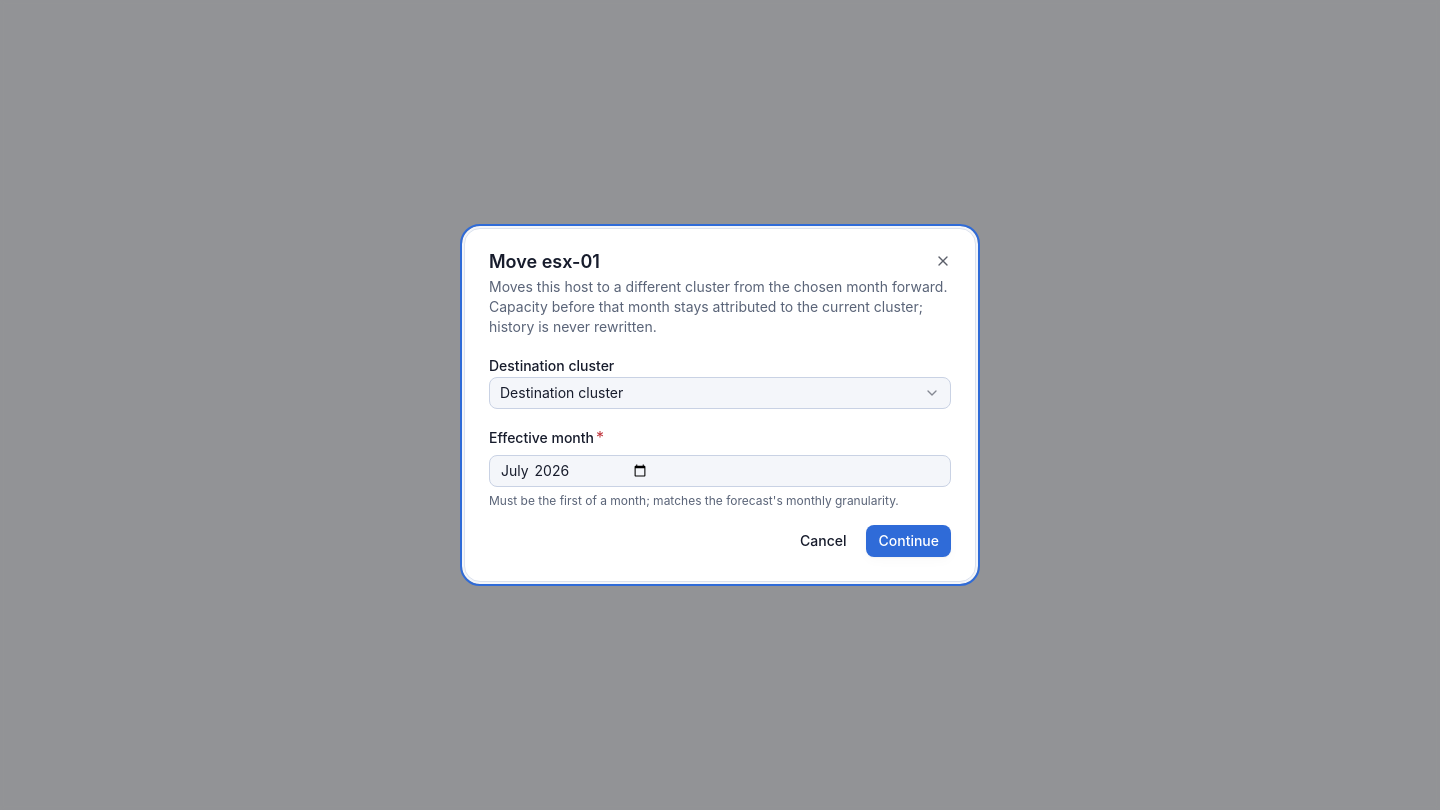
<HostMoveDialog> › refuses a blank month with the dialog's own error, focuses it, and does not advance
The width and height of the screenshot is (1440, 810).
Expected: the dropdown labelled "Destination cluster" is shown, [489,377,951,409]
Step 1. Clear the field labelled "Effective month" → (720, 471), box [489,455,951,487]
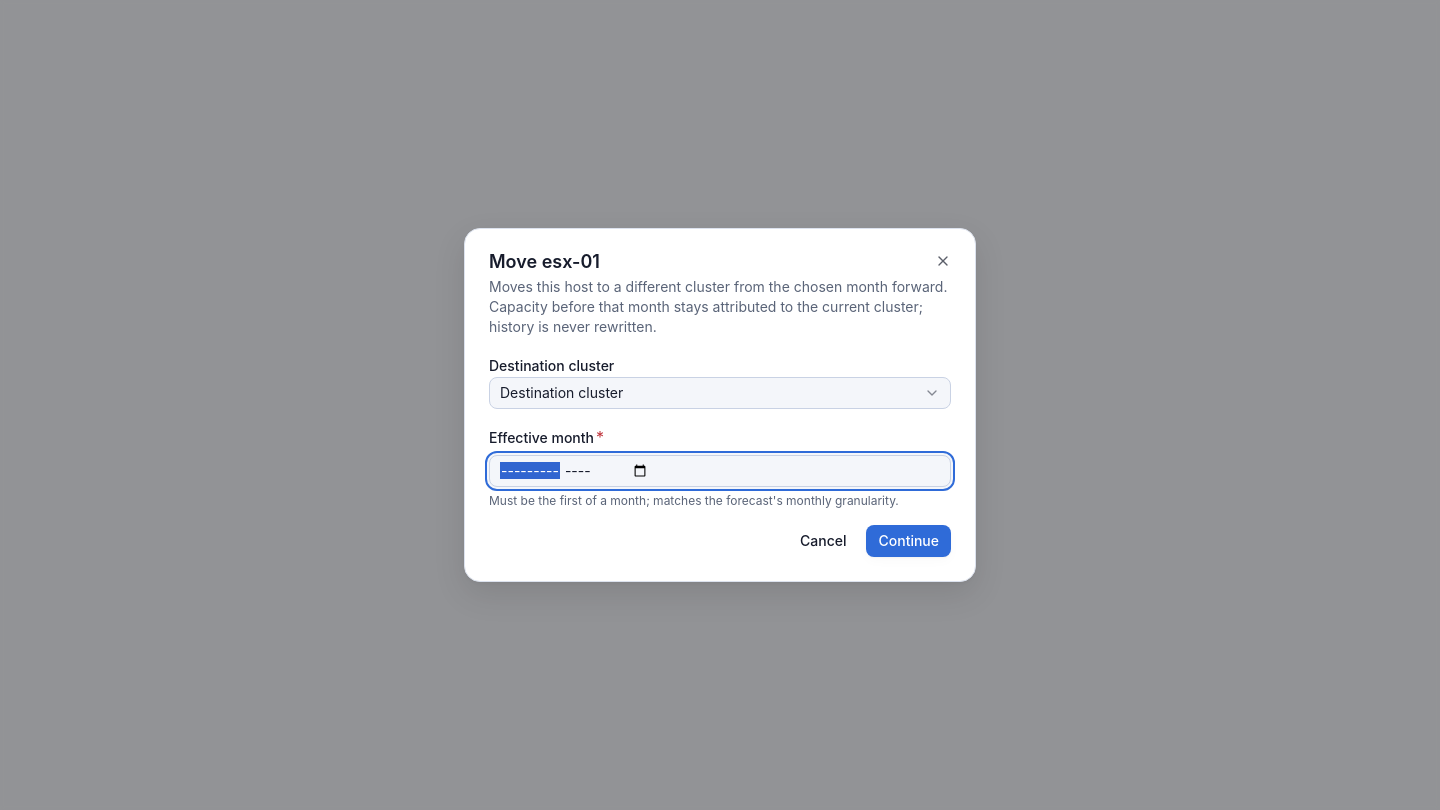
Step 2. Click the button "Continue" → (909, 541), box [866,525,951,557]
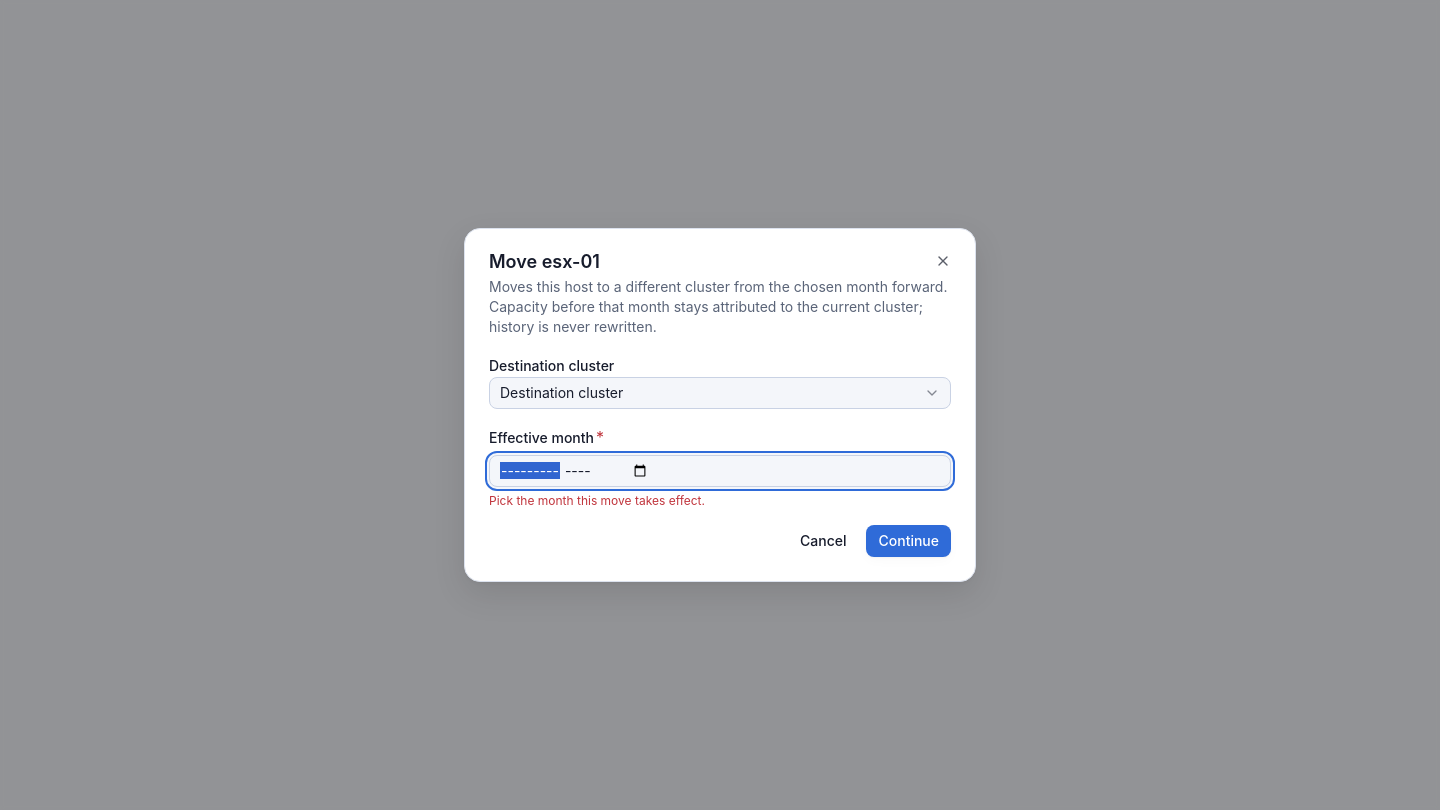
Expected: the text "Pick the month this move takes effect." is shown, [489,493,705,508]
